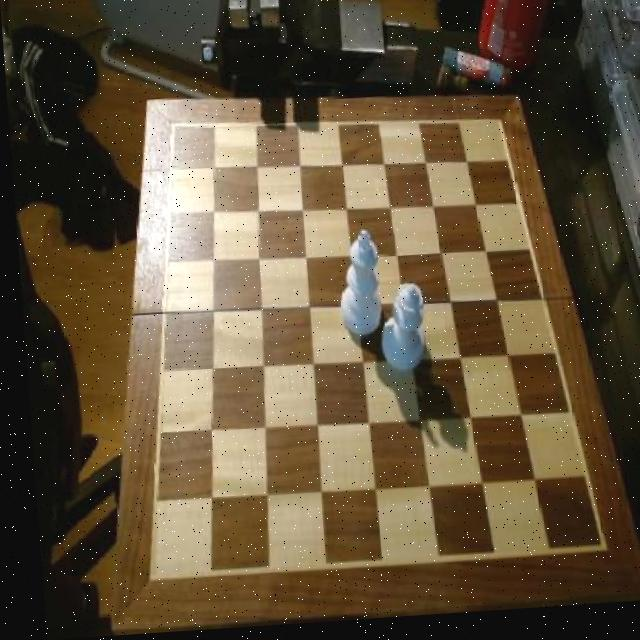white-bishop: (329, 232, 381, 345)
white-pawn: (372, 285, 424, 379)
